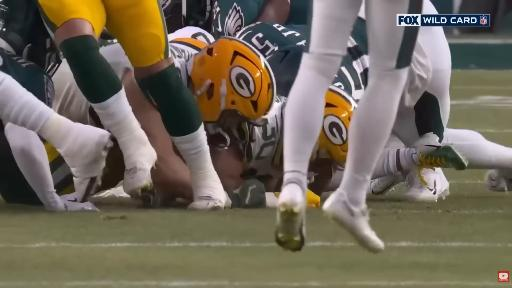Helmet: (189, 37, 275, 124), (318, 86, 356, 165), (267, 45, 304, 97), (160, 0, 214, 33)
Jersey: (232, 96, 287, 178), (0, 0, 59, 74), (0, 46, 55, 107), (333, 18, 369, 100), (168, 27, 214, 85), (212, 0, 265, 38)
Player: (38, 0, 223, 196), (323, 0, 422, 252), (0, 0, 111, 210), (389, 28, 510, 170), (169, 27, 275, 130), (212, 94, 287, 193), (212, 0, 308, 38), (160, 0, 214, 33)
